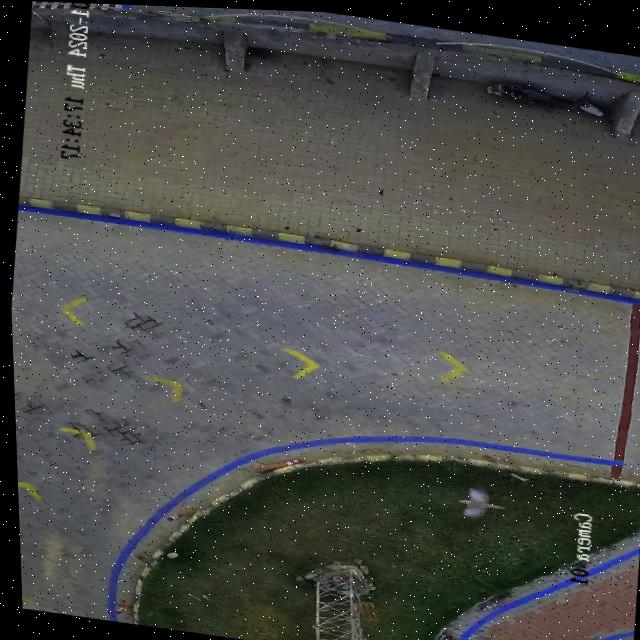No Car: (9, 1, 640, 640)
